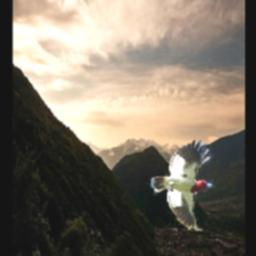Woodpecker: (151, 140, 214, 232)
